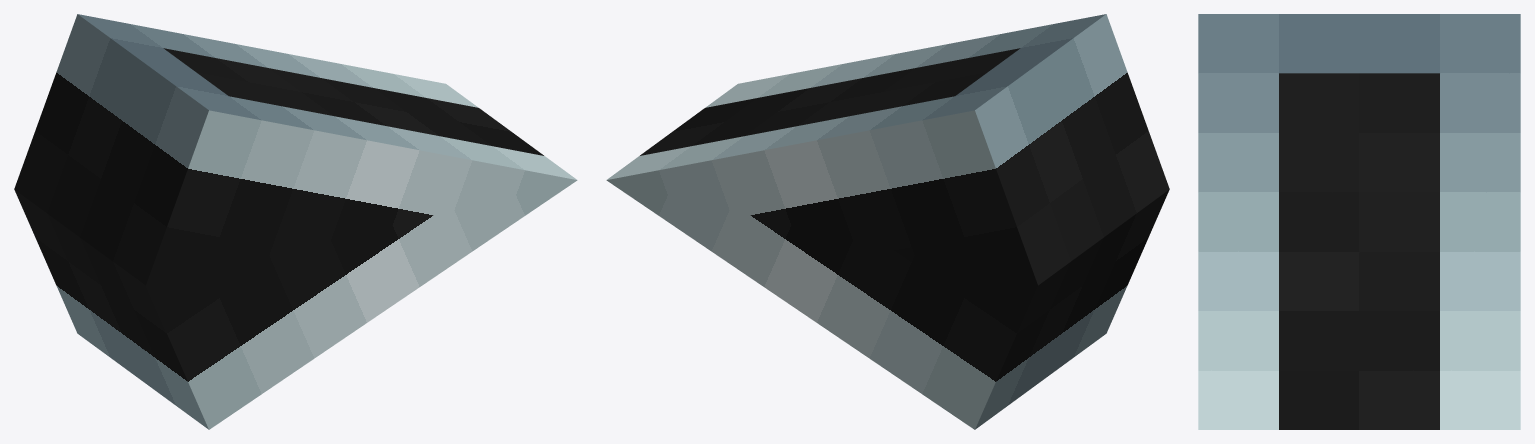
File: wedge.obj
3 renders of one model, left to right at view 1: azimuth 30°, elevation 25°; view 2: azimuth 150°, elevation 25°; view 3: azimuth 270°, elevation 25°, orthographic. The views are drawn at different scales.
Visible parts, largest first — view 1: ARCH.001_Cube.008; view 2: ARCH.001_Cube.008; view 3: ARCH.001_Cube.008.
Part boxes in pixels (left/top/right/bottom): ARCH.001_Cube.008: left=14, top=14, right=577, bottom=429; ARCH.001_Cube.008: left=606, top=14, right=1169, bottom=429; ARCH.001_Cube.008: left=1198, top=14, right=1520, bottom=429.
Size of the model in its own units: 0.4735 by 0.3348 by 0.25.
